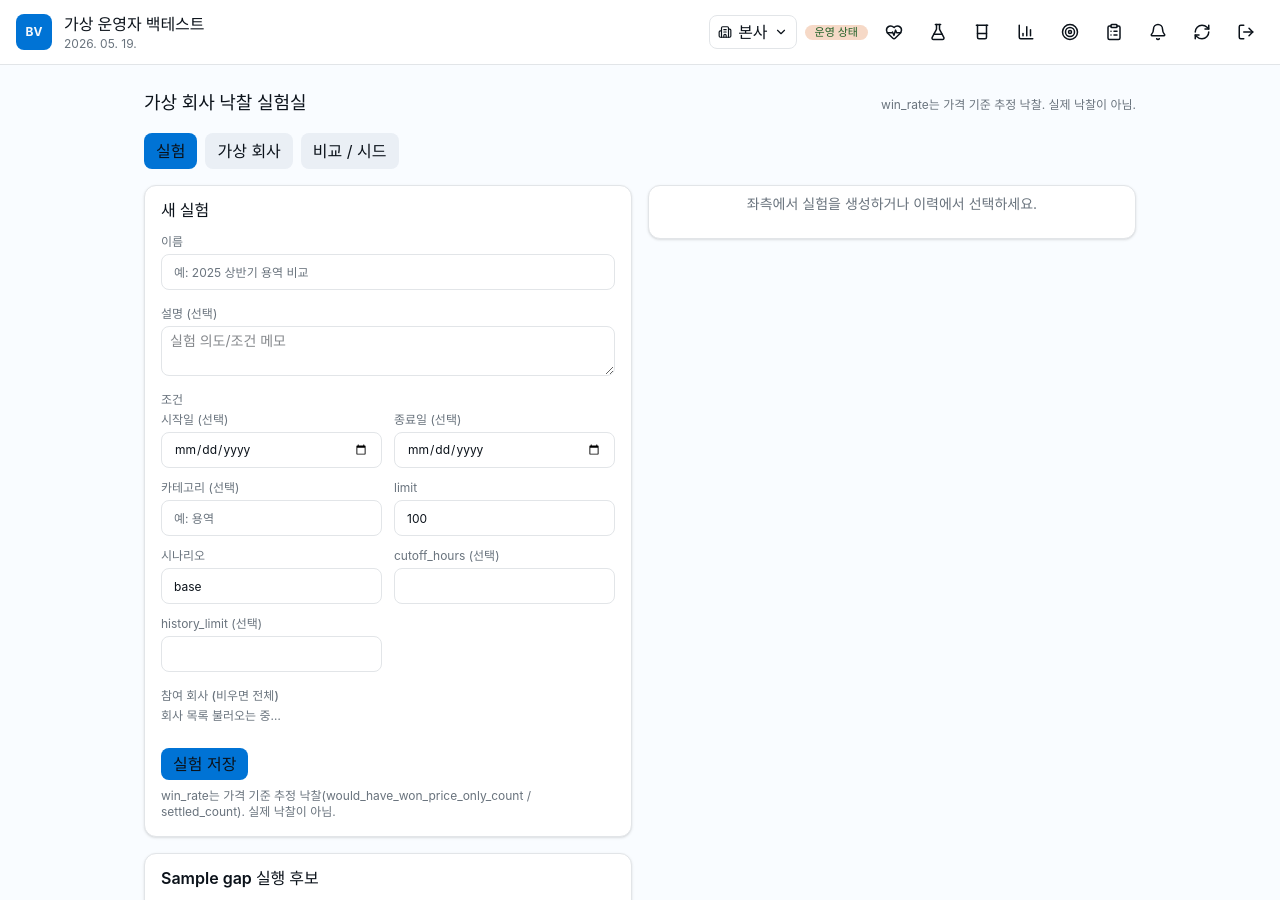
SyntheticBacktestScreen › 시드 → 실행 → 비교표 렌더링까지 화면 이탈 없이 동작
Experiment Lab wraps the backtest screen under the "비교 / 시드" tab.
Click the tab "비교 / 시드": (350, 151) [301,133,398,169]
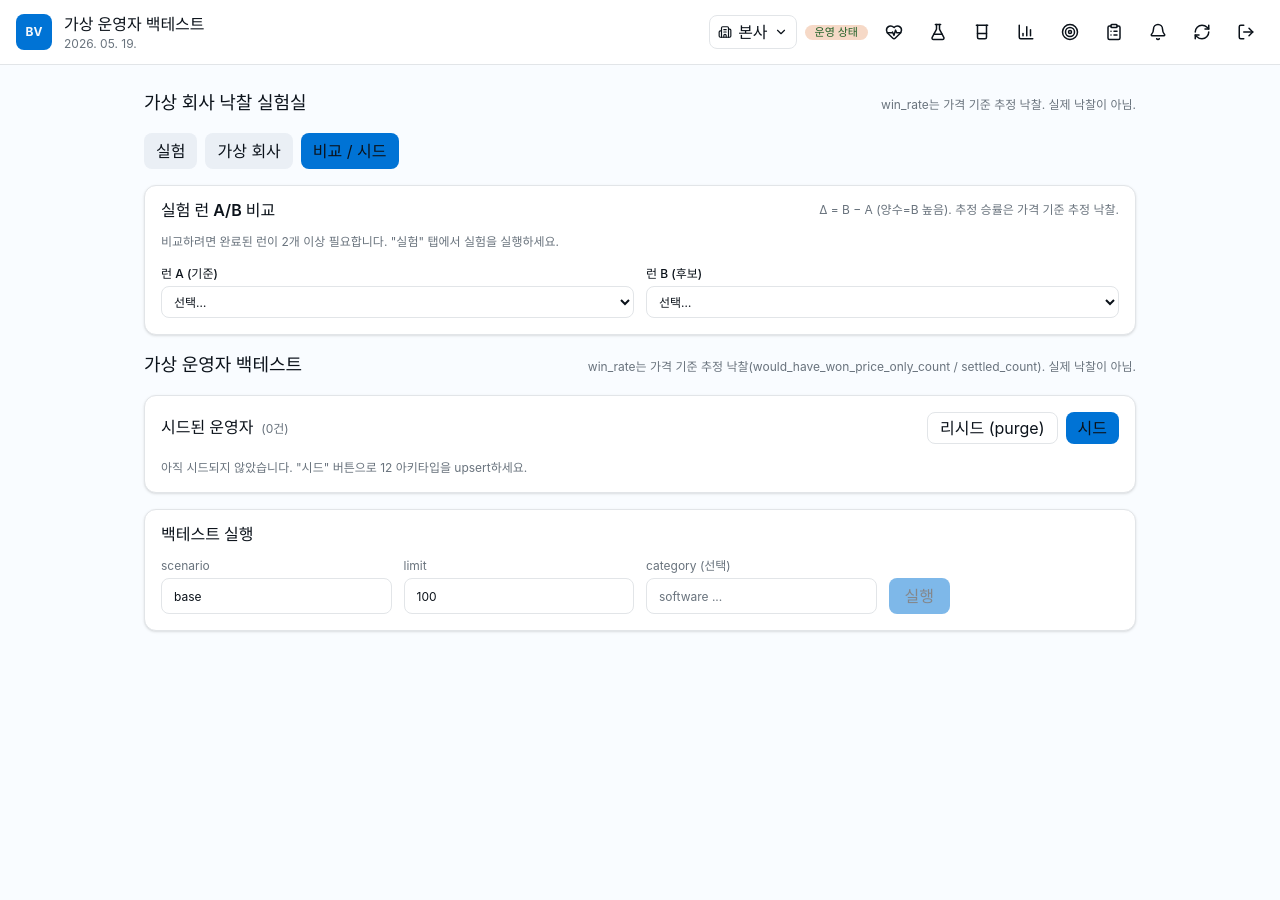
Now the heading "가상 운영자 백테스트" is shown, box [144,351,302,379]
Now the text "아직 시드되지 않았습니다. \"시드\" 버튼으로 12 아키타입을 upsert하세요." is shown, box [161,460,527,475]
Click the button "시드": (1092, 428) [1066,412,1119,444]
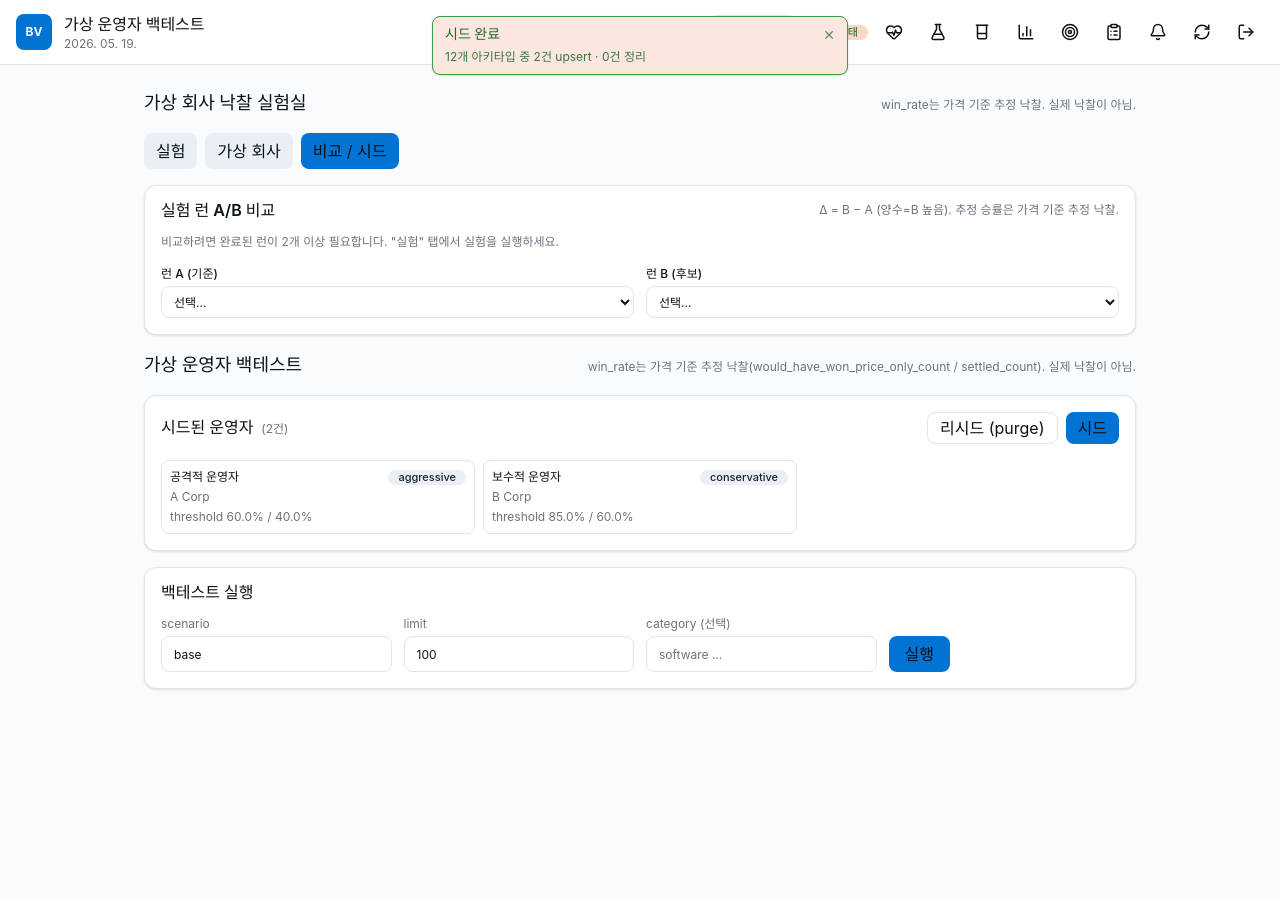
Now the text "공격적 운영자" is shown, box [170,469,239,485]
Now the text "시드 완료" is shown, box [445,25,500,42]
Click the button "실행": (919, 654) [888,636,950,672]
(page scrolled)
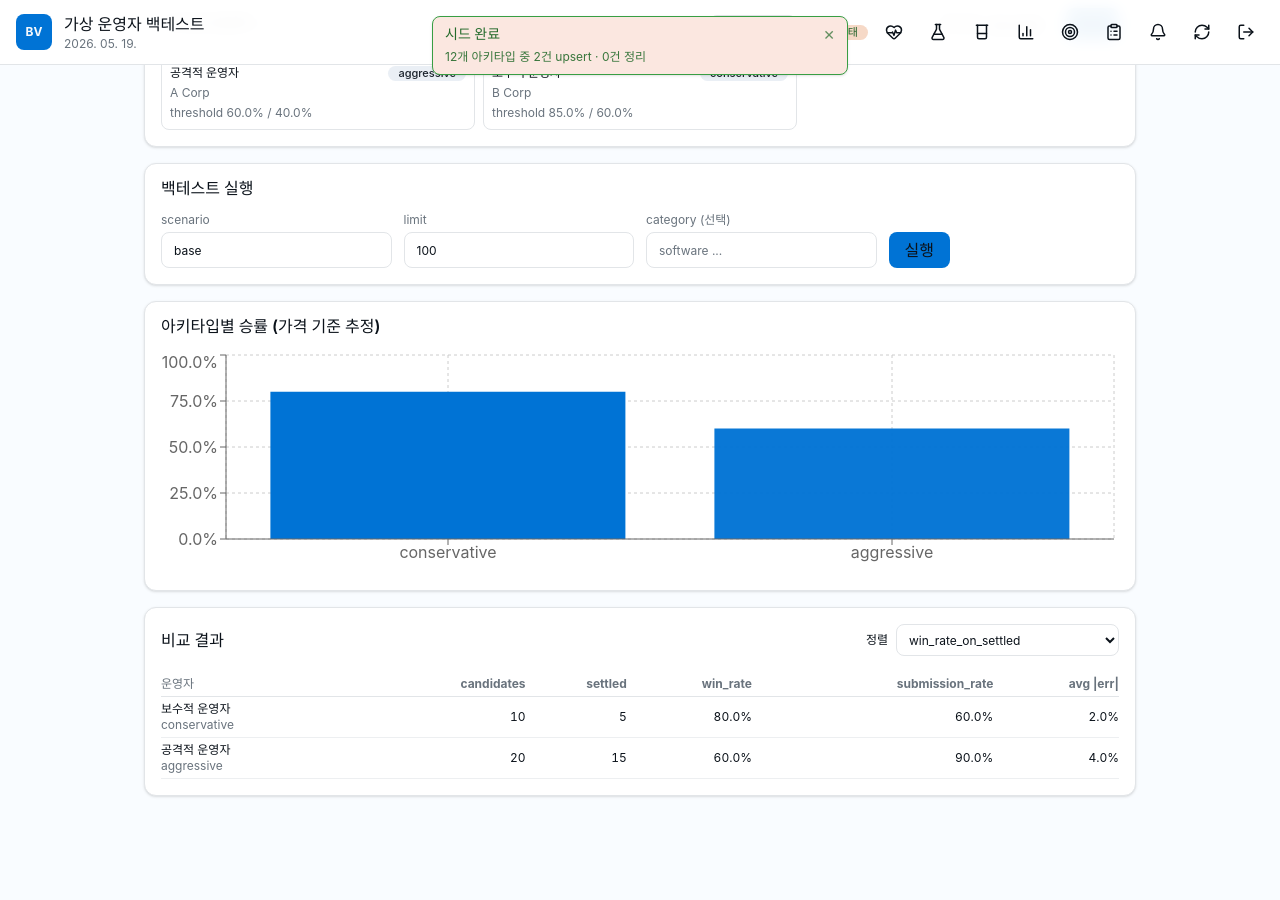
Now the heading "비교 결과" is shown, box [161,632,224,648]
